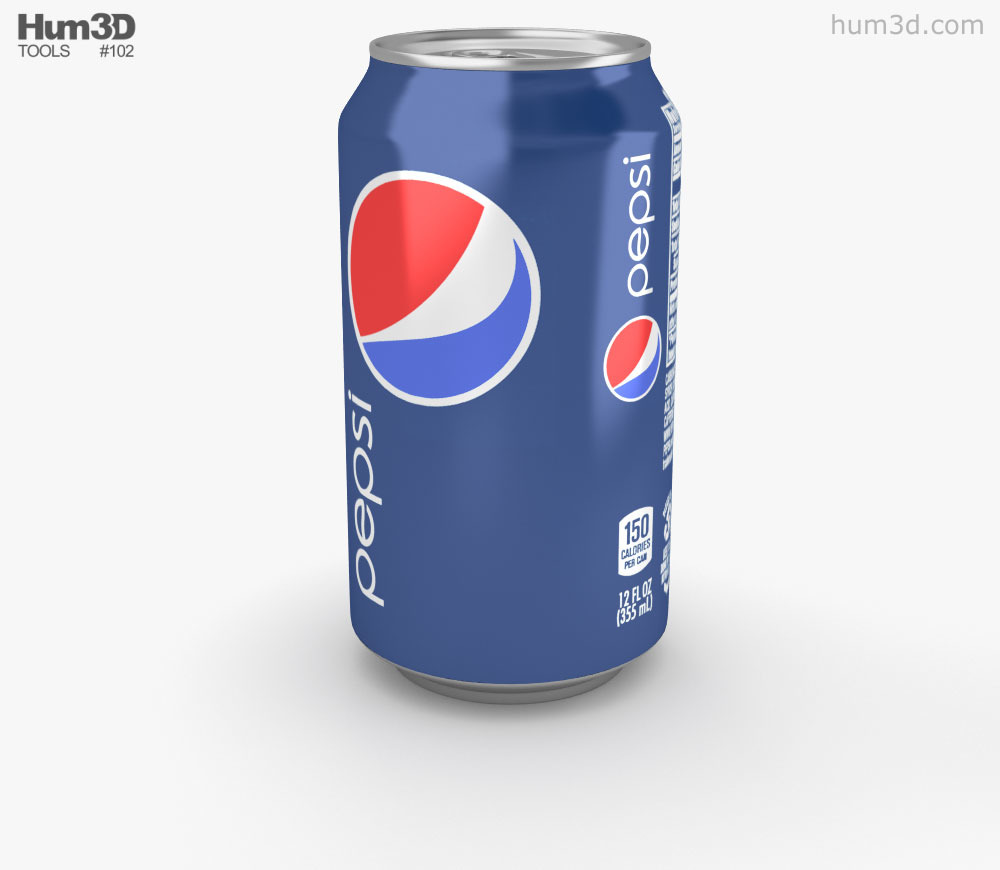pepsi: (337, 11, 667, 708)
